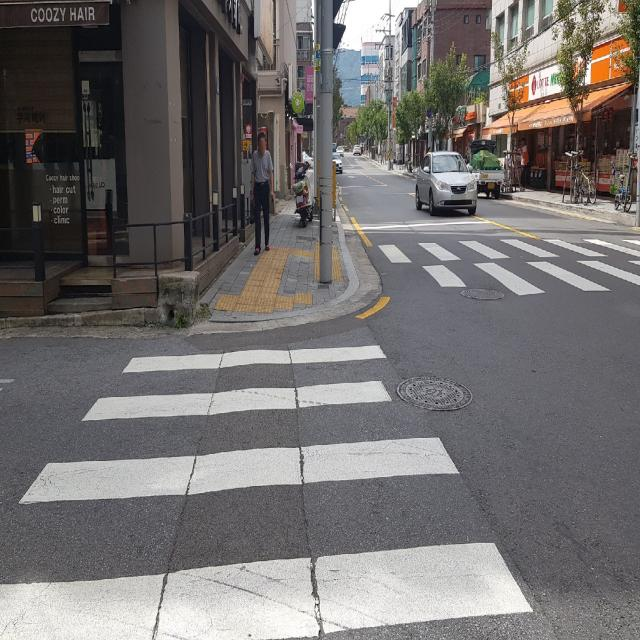횡단보도: (0, 344, 534, 639), (375, 232, 640, 291)
